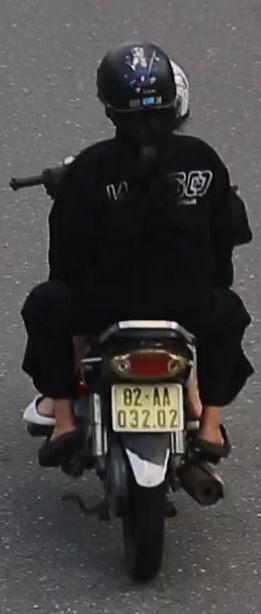LP: (108, 377, 190, 435)
helmet: (90, 37, 188, 157)
